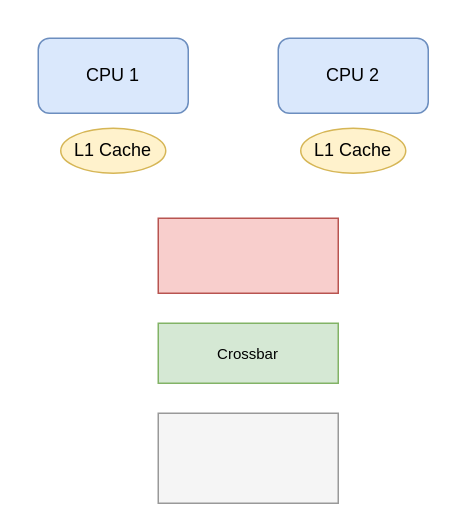
Image size: 455x530. Some labels were removed from this diagram. The shapes that lost their labels are listed below. From the top down, each one's centre as x and y in pixels, then its label:
(247,255): Shared L2 Cache
(247,457): Main Memory
